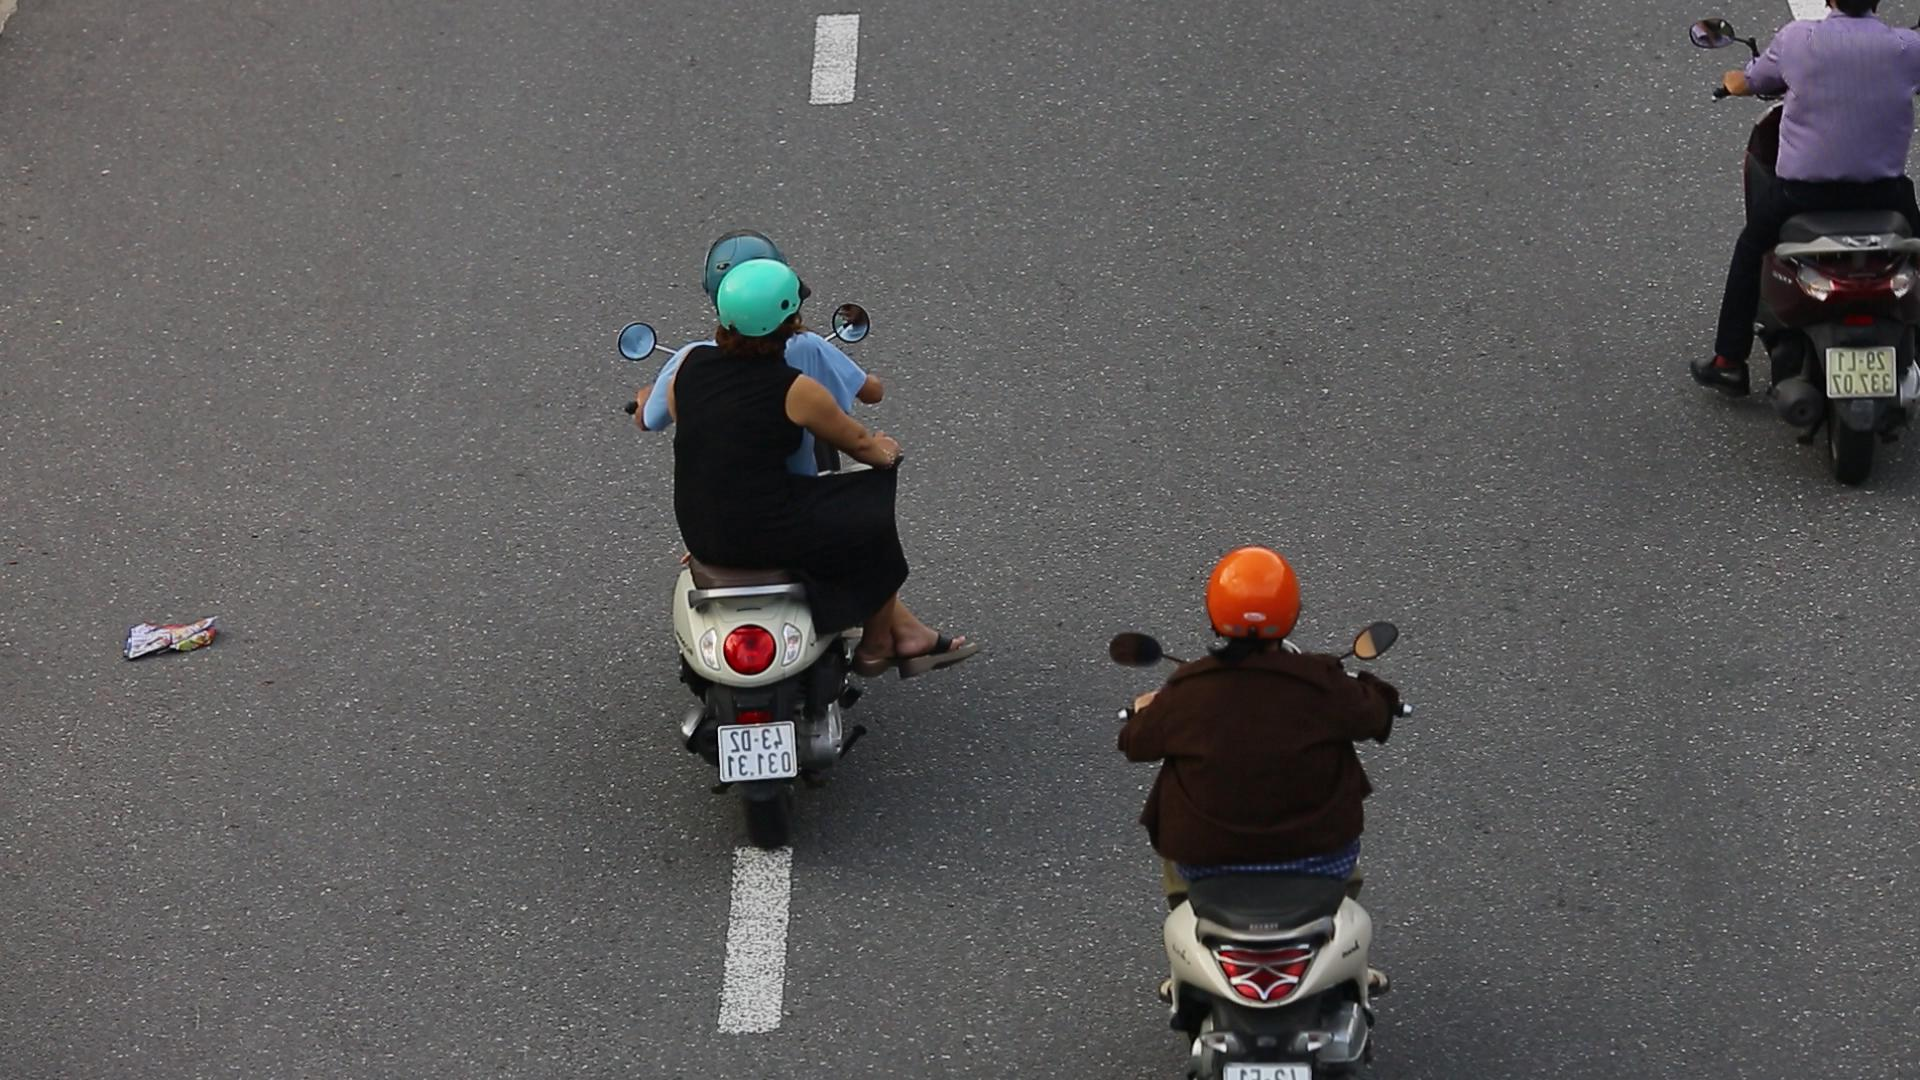motobike: (605, 211, 926, 851)
